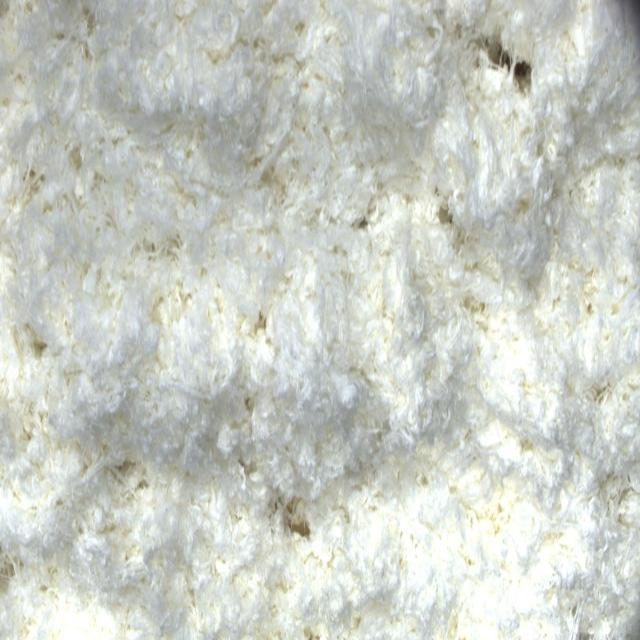dust: (491, 40, 535, 92)
